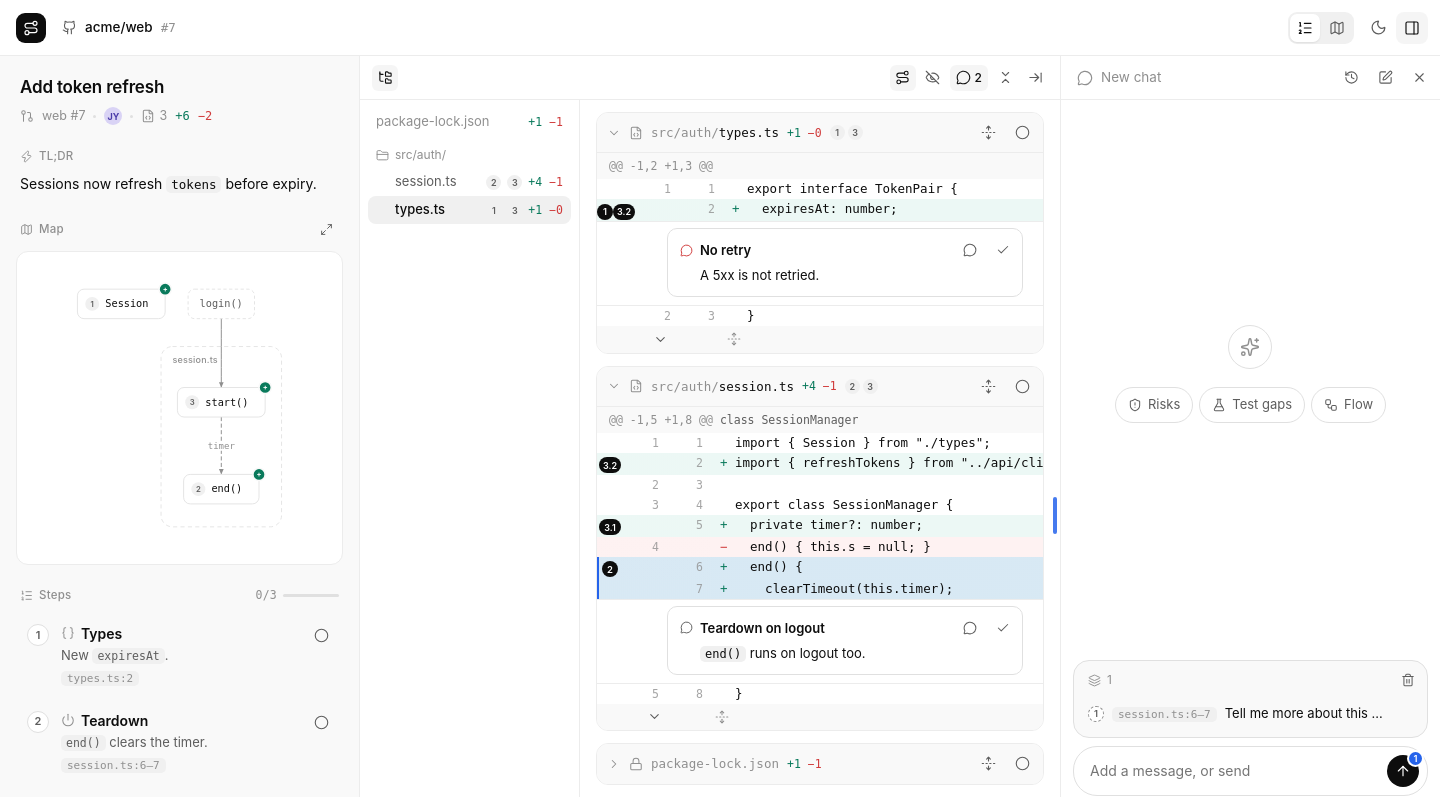
it: expanding a gap fetches the file and reveals numbered context rows
Check: the heading "Add token refresh" is shown, box [20, 77, 164, 97]
Click the button with class "exp-btn" below "runs on logout too.": (654, 717) [636, 704, 672, 730]
(page scrolled)
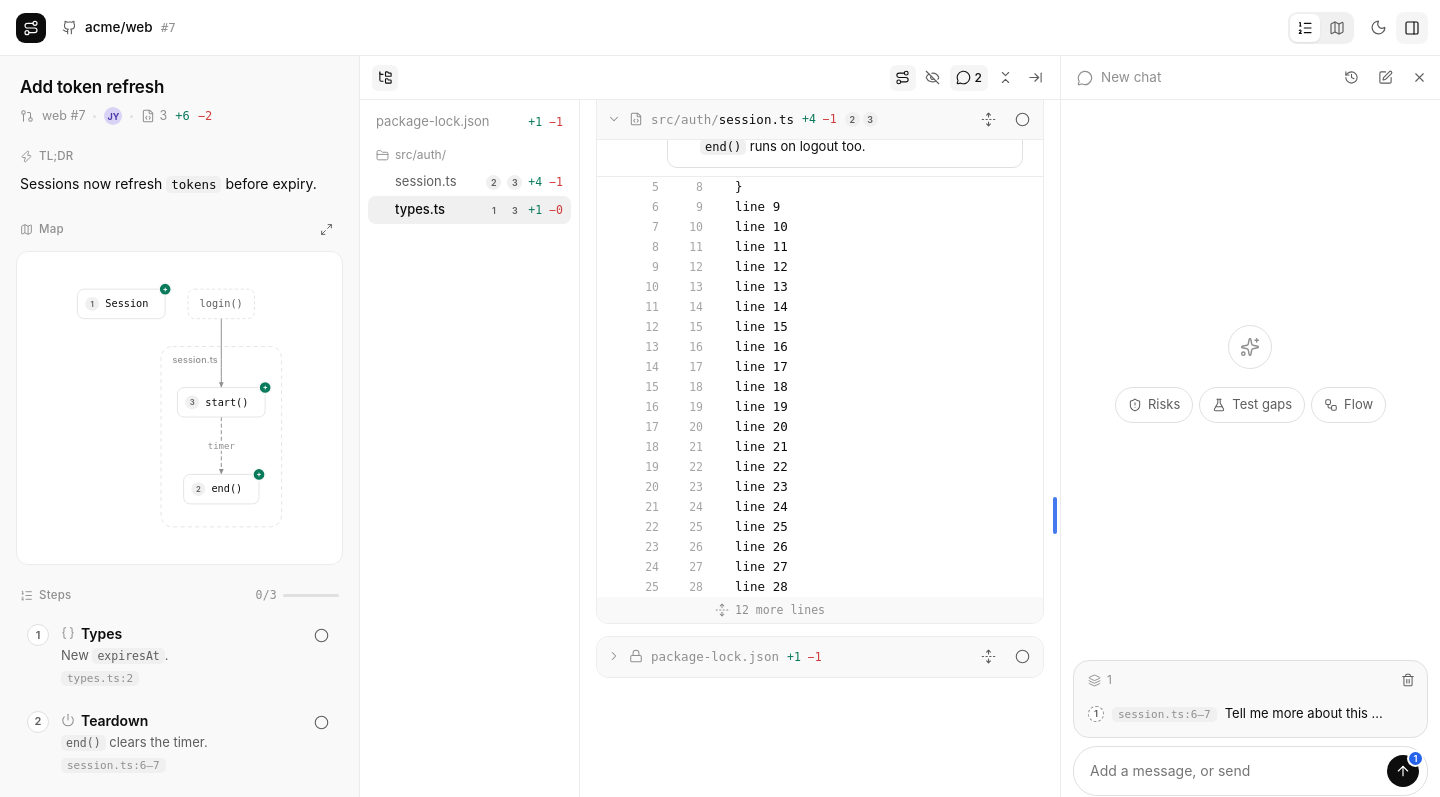
Check: the text with class "src" reads "line 28", box [735, 579, 788, 594]
Check: the button with class "exp-btn" is gone
Check: the button with class "exp-all" reads "12 more lines", box [715, 597, 825, 623]
Click the row with class "gap": (847, 610) [597, 597, 1097, 623]
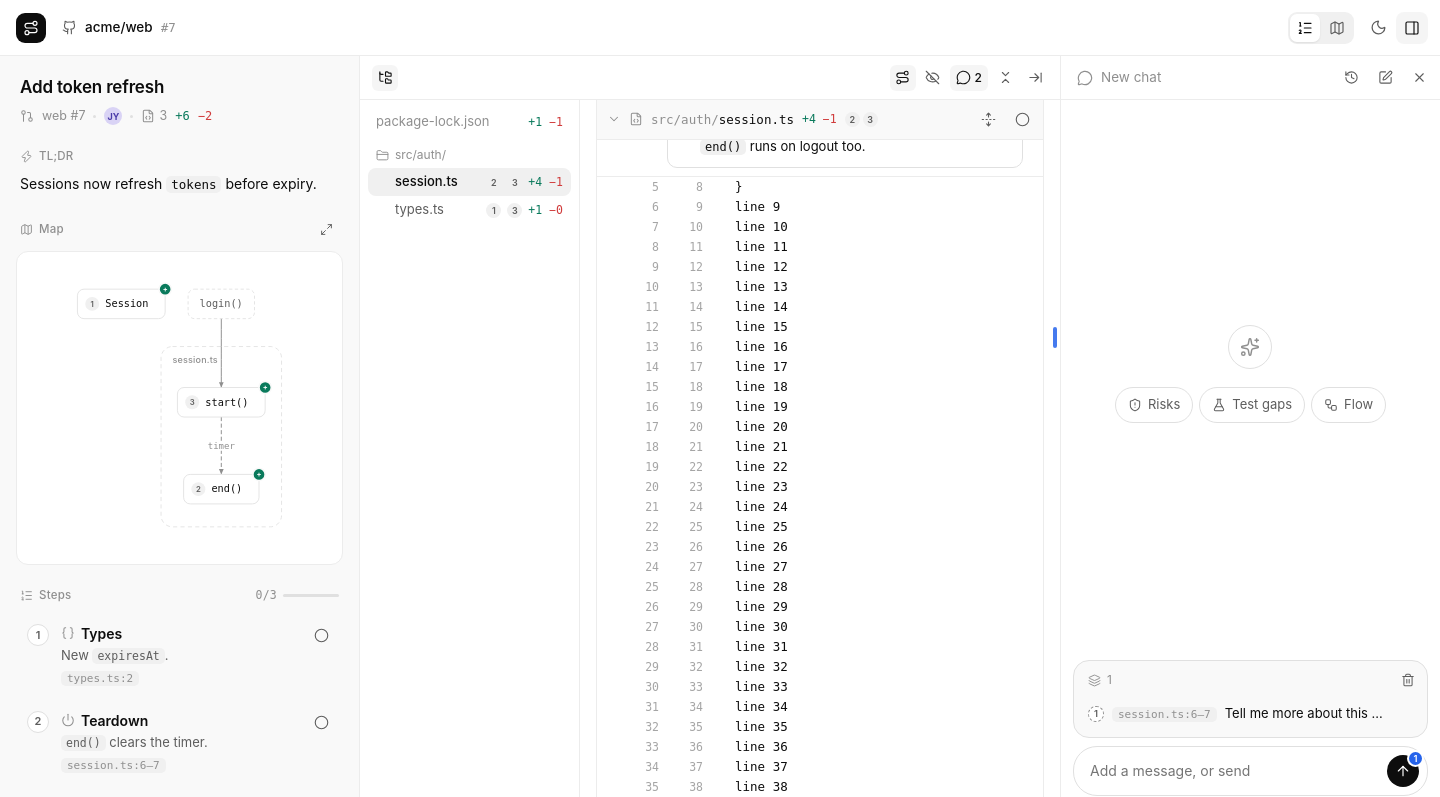
Check: no rows with class "gap" are shown
